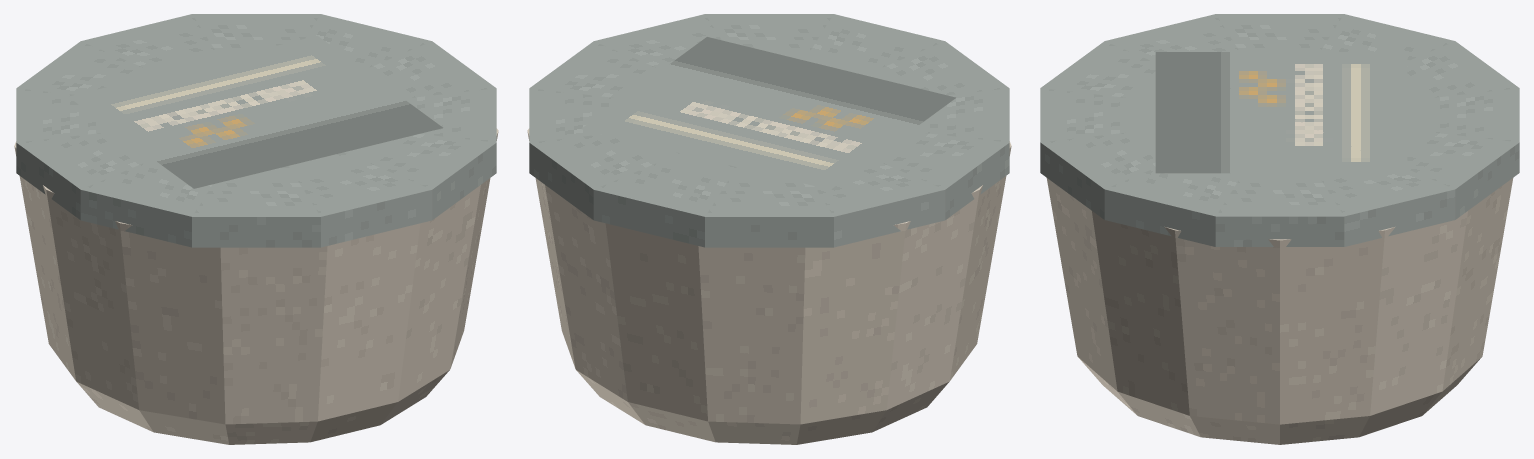
File: pudding.glb
3 views of the same model, side by side, from view 1: azimuth 30°, elevation 25°; view 2: azimuth 150°, elevation 25°; view 3: azimuth 270°, elevation 25° (orthographic).
Parts seen in each view (by area): view 1: block_dairy tub, block_foil and plastic lid, block_pot lid print; view 2: block_dairy tub, block_foil and plastic lid, block_pot lid print; view 3: block_dairy tub, block_foil and plastic lid, block_pot lid print.
Part boxes in pixels (left/top/right/bottom): block_dairy tub: left=14, top=128, right=498, bottom=444; block_foil and plastic lid: left=16, top=14, right=496, bottom=247; block_pot lid print: left=68, top=35, right=442, bottom=188; block_dairy tub: left=527, top=128, right=1011, bottom=444; block_foil and plastic lid: left=529, top=14, right=1009, bottom=247; block_pot lid print: left=581, top=37, right=955, bottom=189; block_dairy tub: left=1046, top=178, right=1513, bottom=444; block_foil and plastic lid: left=1040, top=14, right=1519, bottom=246; block_pot lid print: left=1155, top=52, right=1407, bottom=173.
Size of the model in its own units: 0.1203 by 0.07 by 0.119.
1 material, 1 textured.
